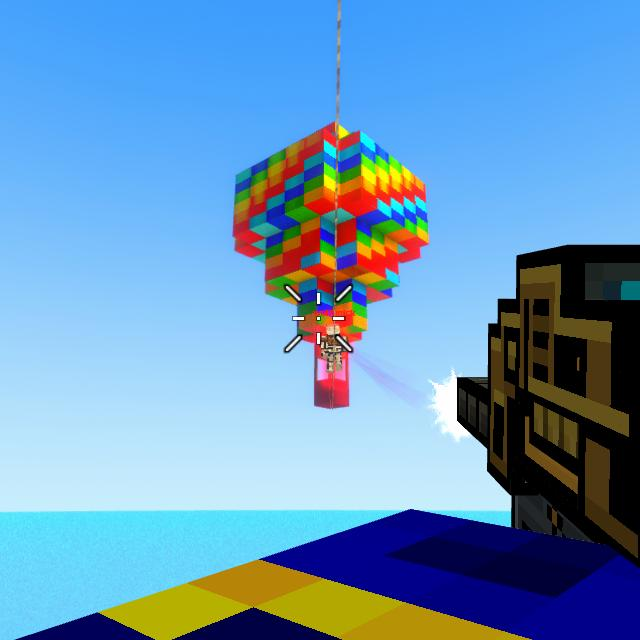Enemy: (319, 324, 349, 373)
